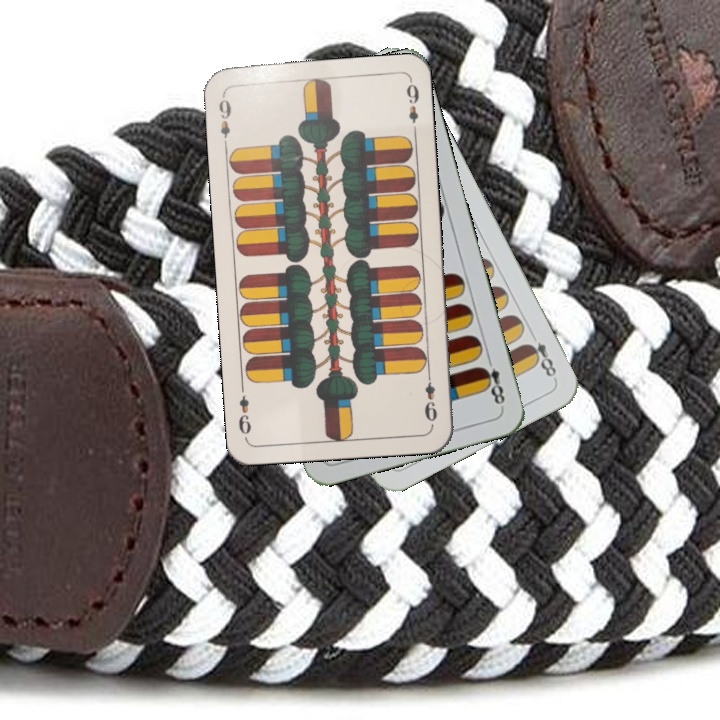E8: (522, 327, 559, 382), (476, 352, 508, 410)
E9: (420, 368, 440, 427), (214, 91, 234, 150)
